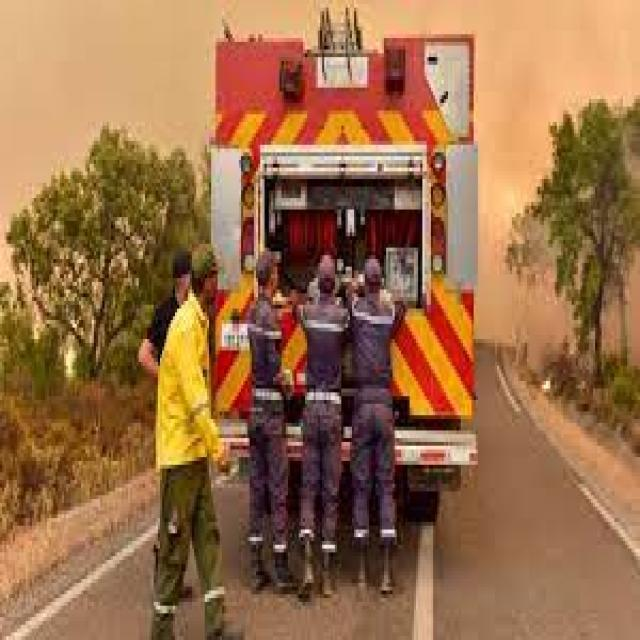emergency: (201, 24, 493, 534)
